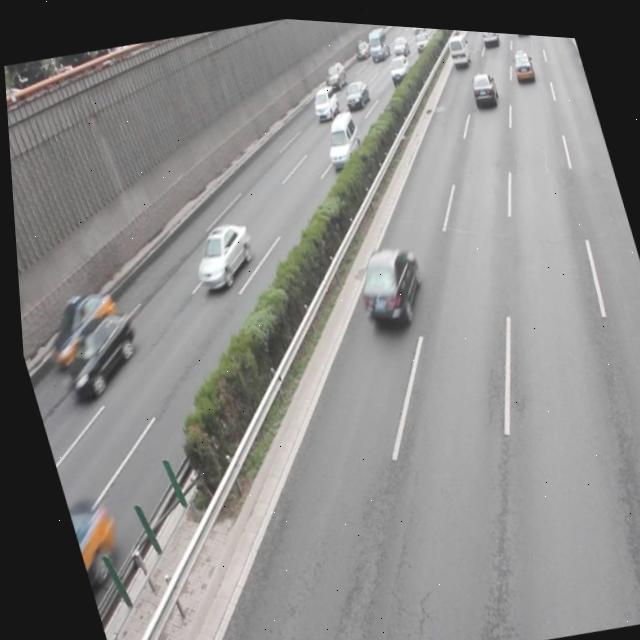car: (41, 301, 147, 406), (29, 284, 126, 371), (344, 233, 429, 329), (57, 486, 123, 597), (181, 213, 258, 293), (464, 62, 500, 105)
truck: (314, 103, 363, 164)
